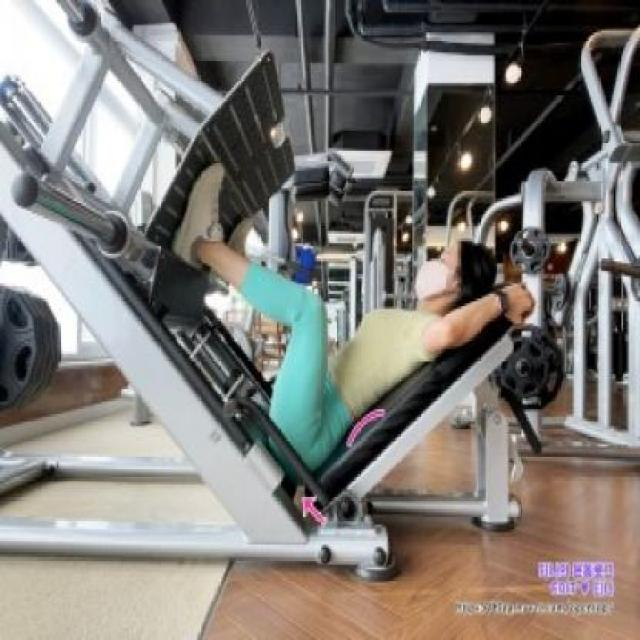leg press: (0, 0, 555, 640)
